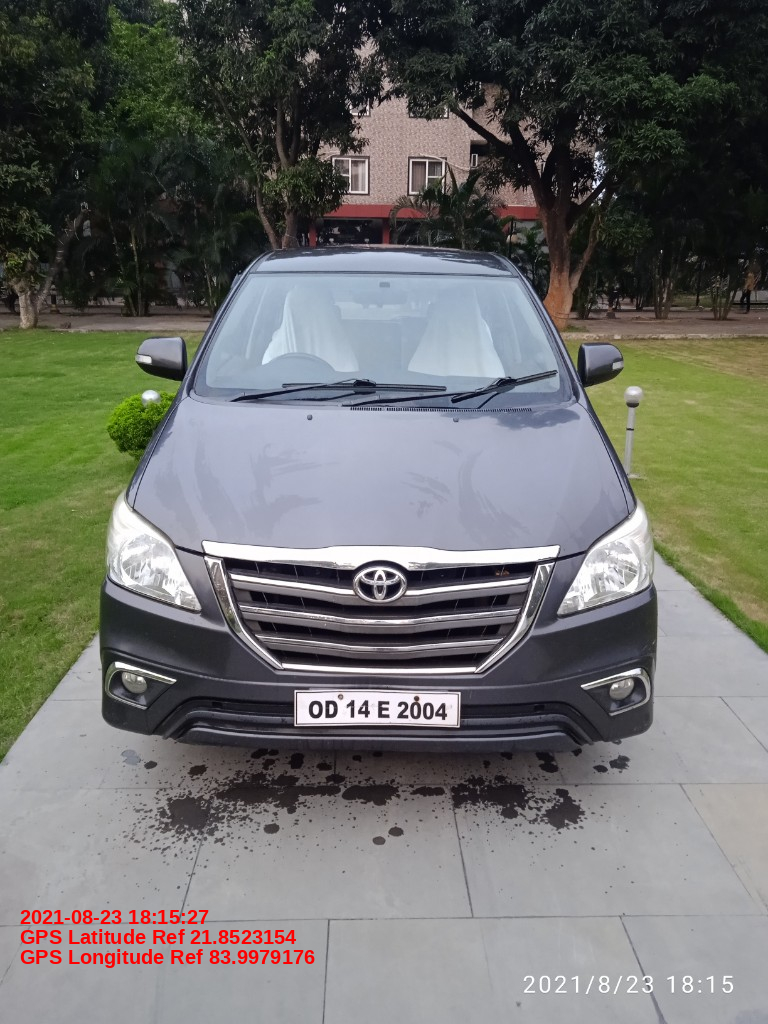Scratched: (206, 711, 264, 721), (639, 636, 659, 658), (513, 716, 558, 724), (465, 687, 479, 704), (276, 717, 293, 726)
